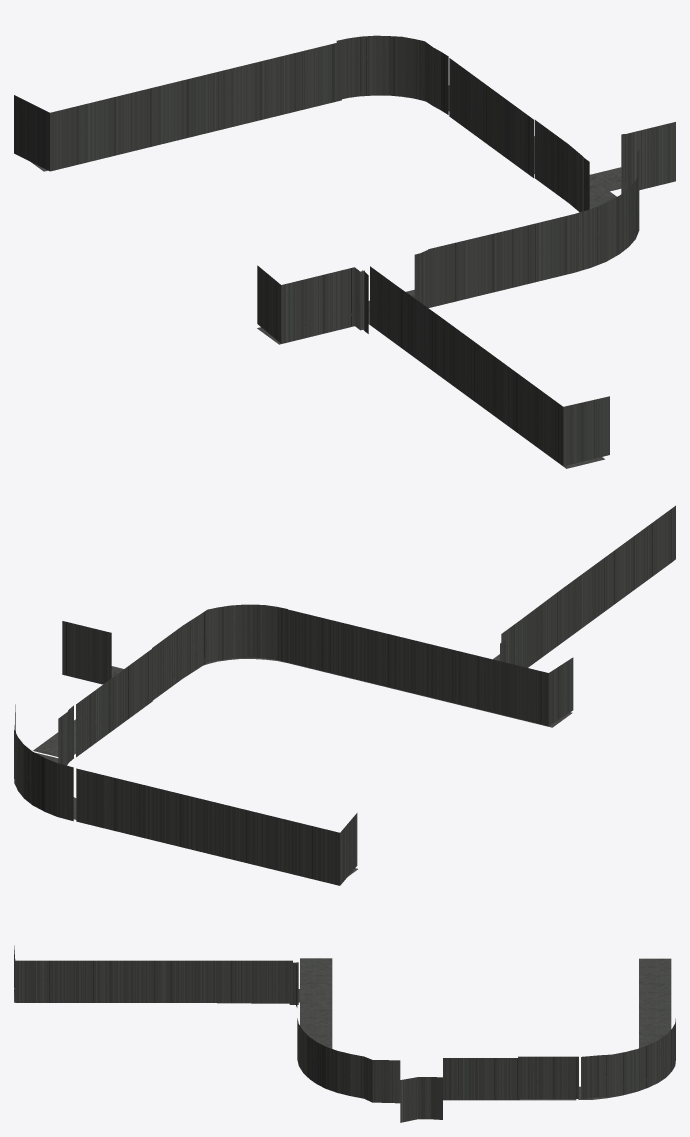
Rendered from collider-transformed.glb.
3 views of the same model, one above another, from view 1: azimuth 30°, elevation 25°; view 2: azimuth 150°, elevation 25°; view 3: azimuth 270°, elevation 25° (orthographic). The views are drawn at different scales.
Visible parts, largest first — view 1: floor; view 2: floor; view 3: floor.
Part boxes in pixels (bbox=[...]): floor: bbox=[14, 35, 675, 468]; floor: bbox=[14, 505, 675, 885]; floor: bbox=[14, 945, 675, 1122].
Bounding box in the file's own units: 64.18 × 8.83 × 109.
1 material, 1 textured.
